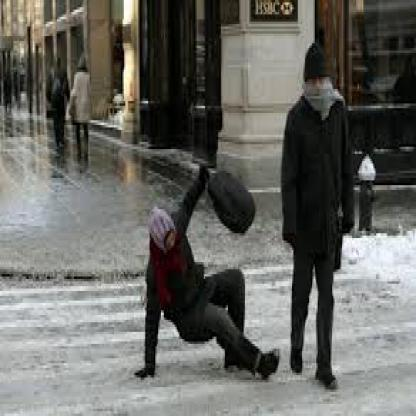Fall_Down: (131, 160, 281, 386)
